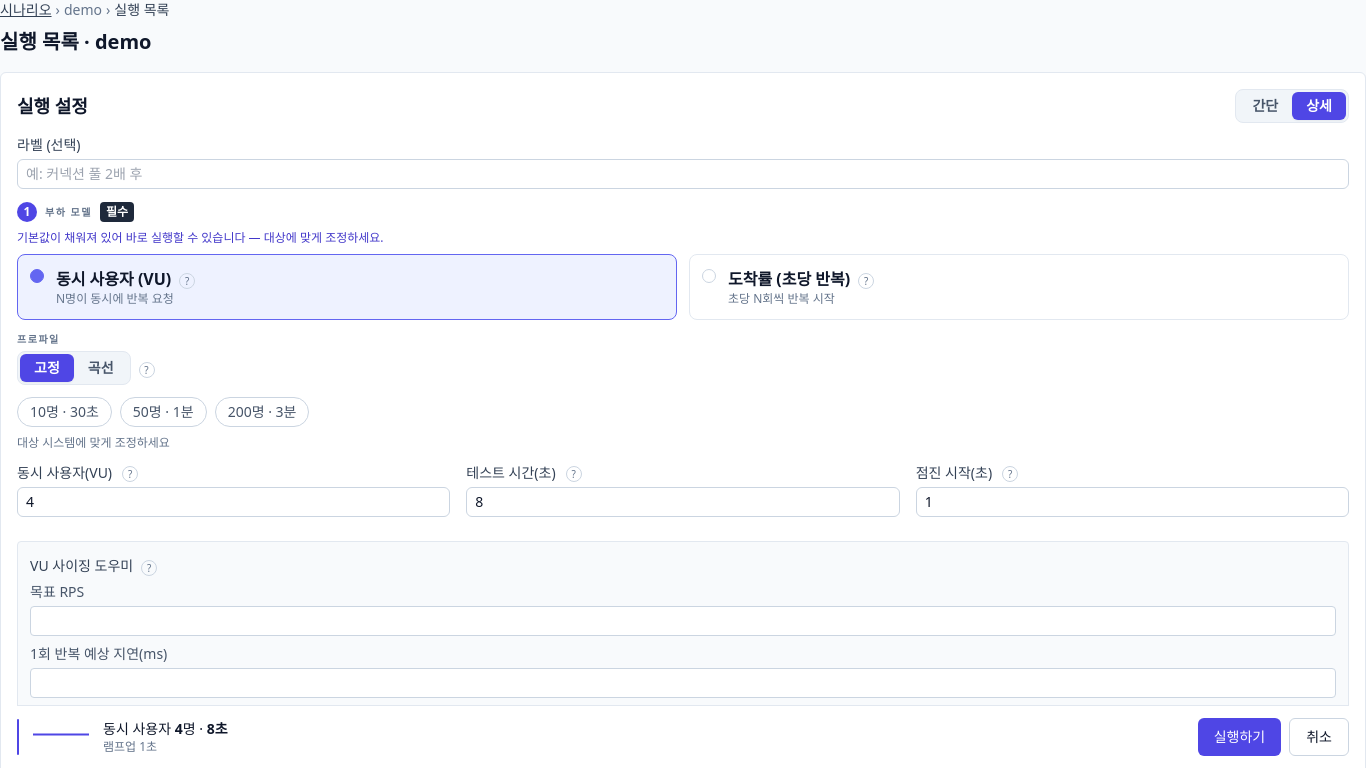
Test case: ScenarioRunsPage — retry (A1) › does not re-open the dialog after Cancel when the runs list refetches
Expected: the number field labelled "동시 사용자(VU)" holds "4", [17,487,450,517]
Click the button "취소" at [1319, 737], box [1289,718,1349,756]
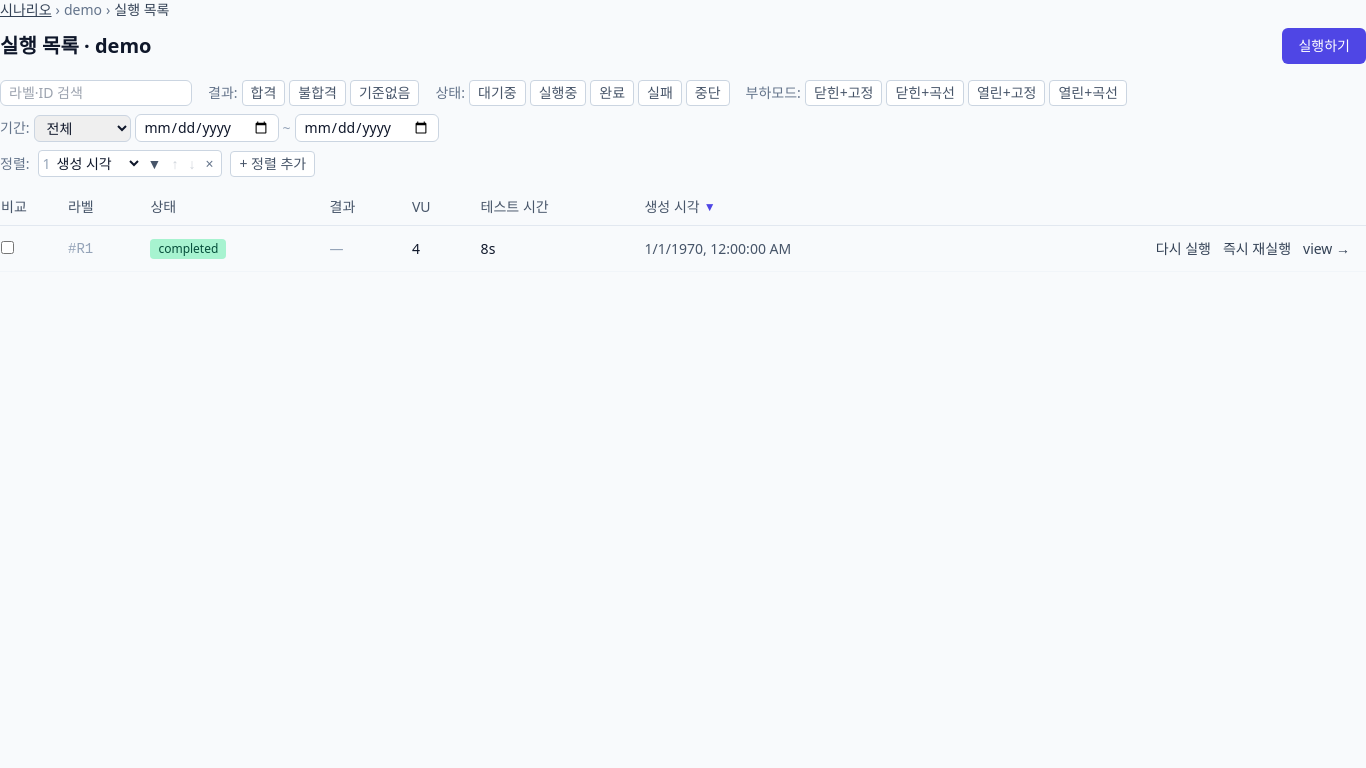
Expected: the radio button labelled "동시 사용자" is gone
